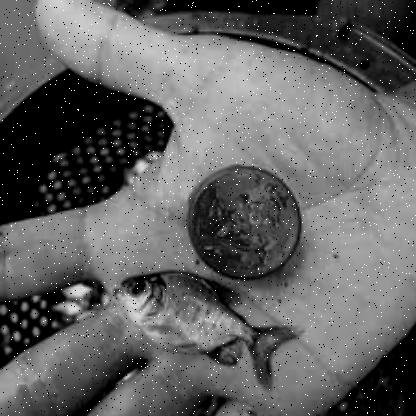ikan-pacu: (113, 270, 279, 362)
